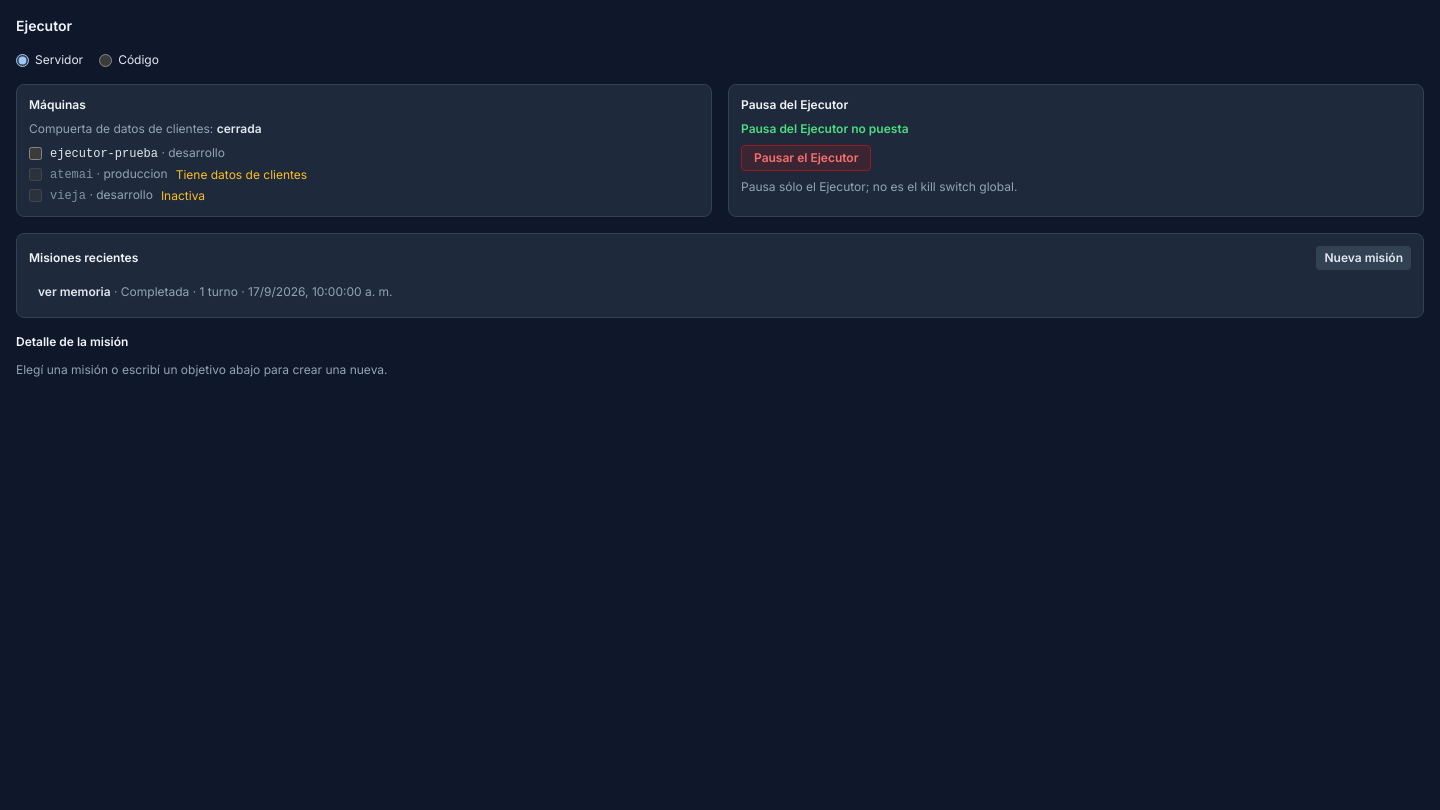
it: Ejecutor -- detalle de misión › completada SIN afirmaciones: las salidas crudas se ven igual, con la marca de truncada
Click the button "ver memoria".
click(74, 292)  # box [29,279,1411,305]
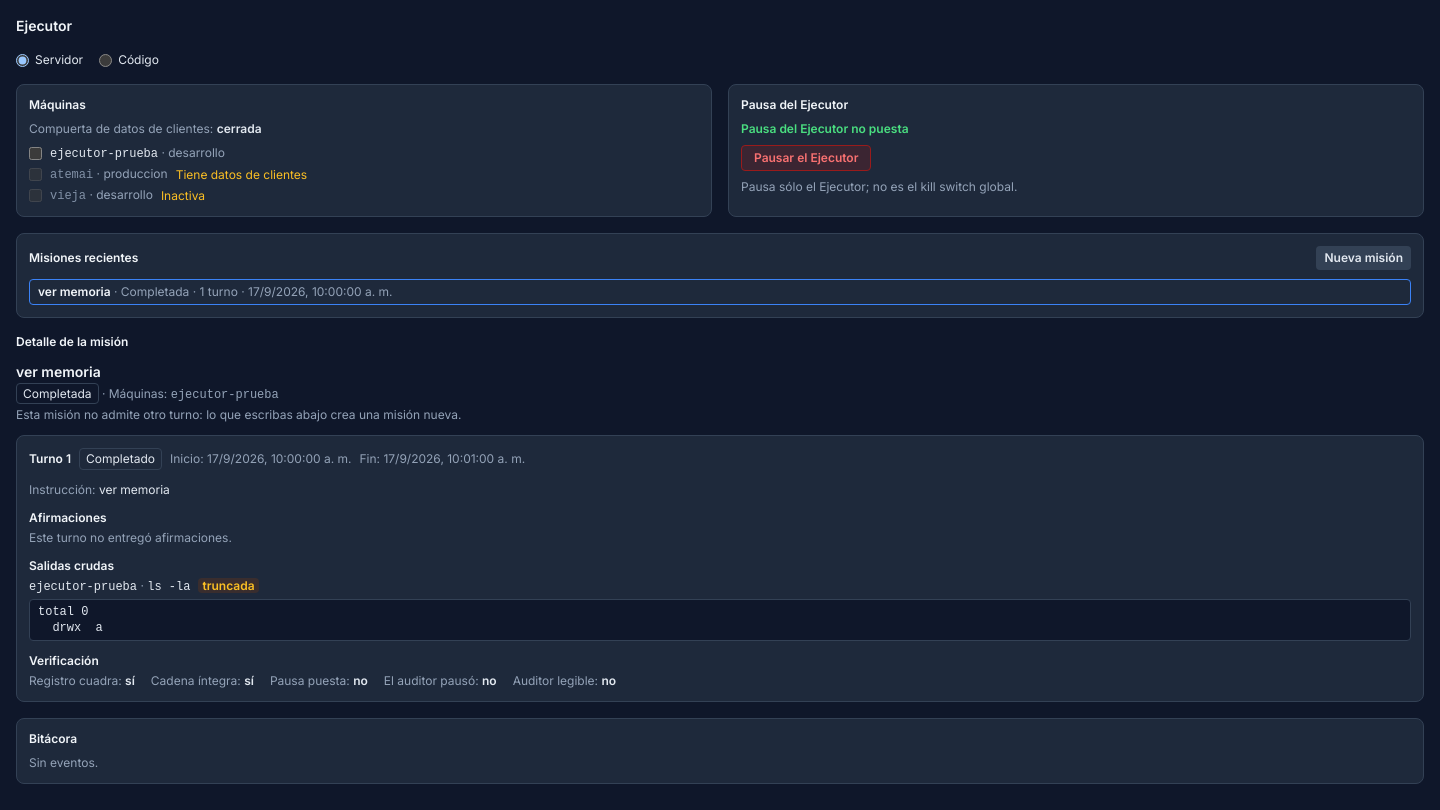
Expected: the text "Este turno no entregó afirmaciones." is shown, [29,530,232,545]
Expected: the text "truncada" is shown, [198,578,259,593]
Expected: the text "ls -la" is shown, [147,580,190,594]
